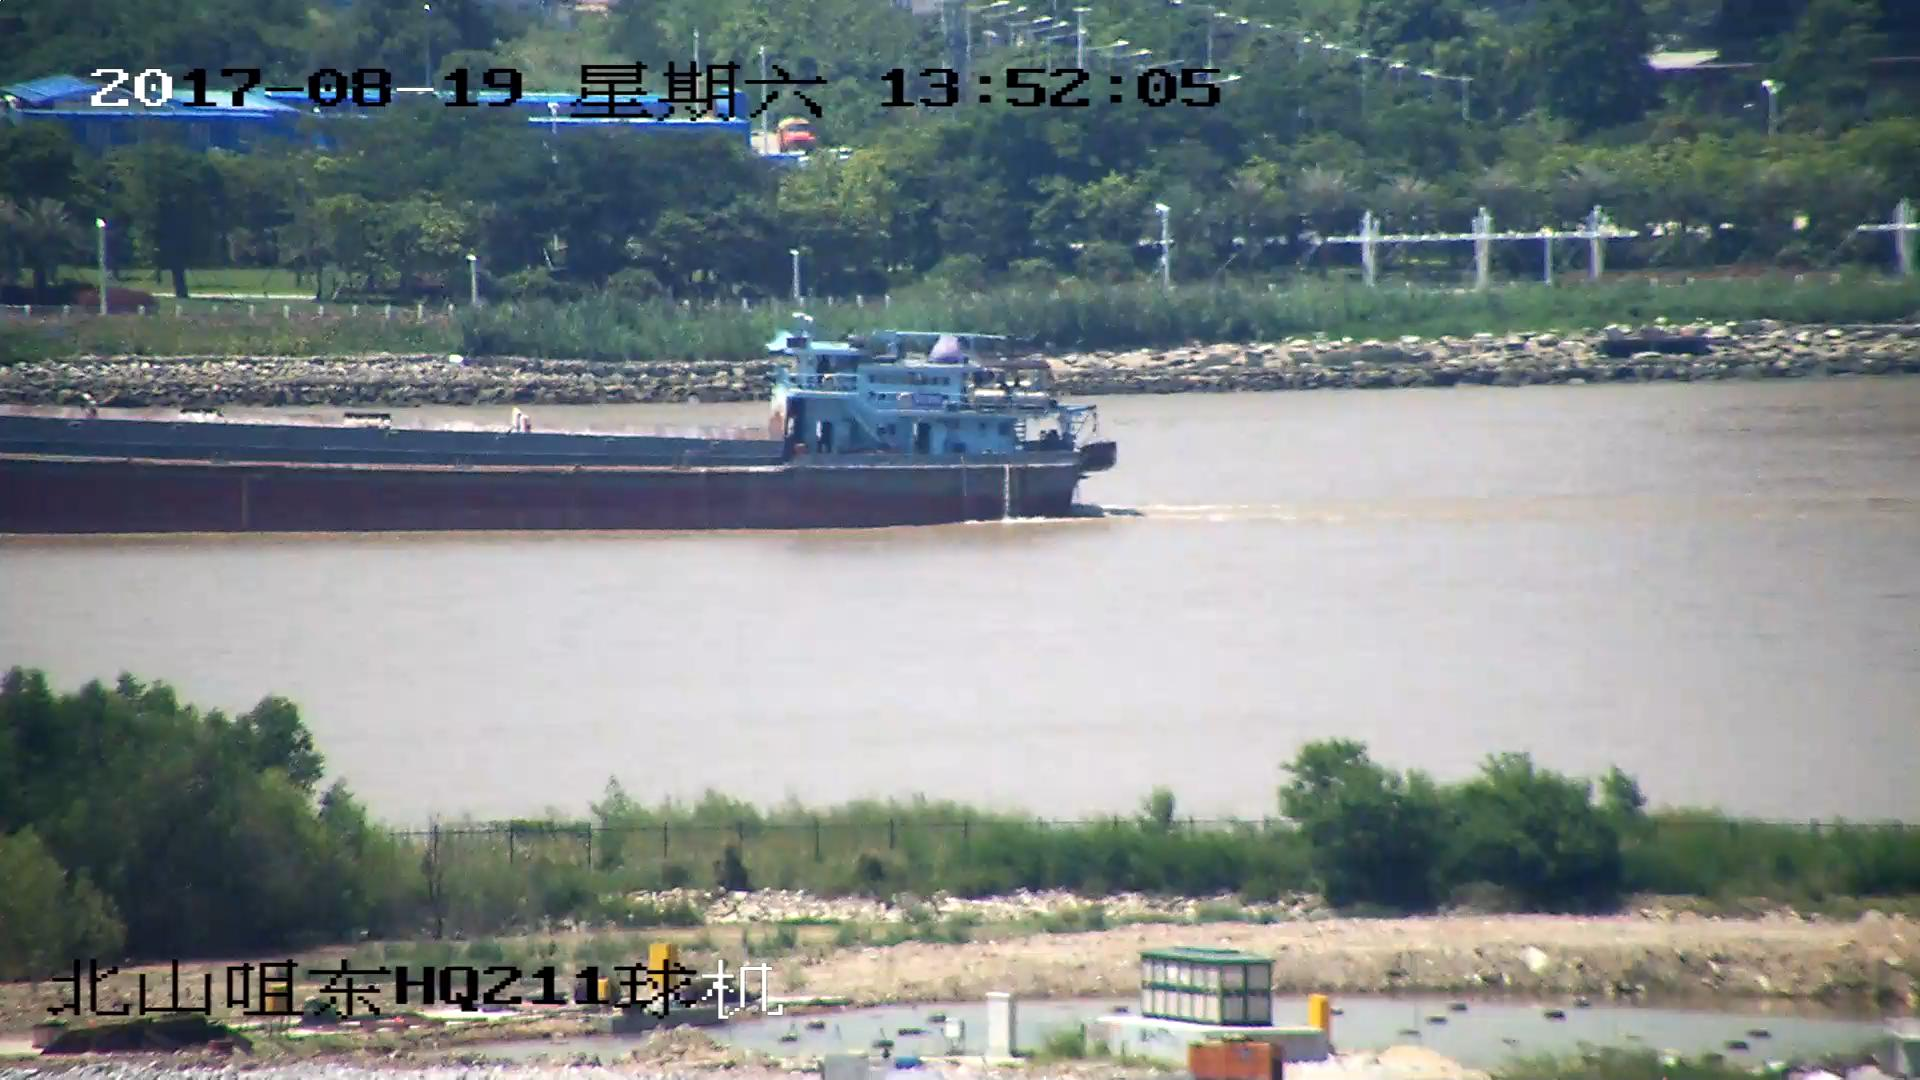bulk cargo carrier: (1, 311, 1118, 536)
